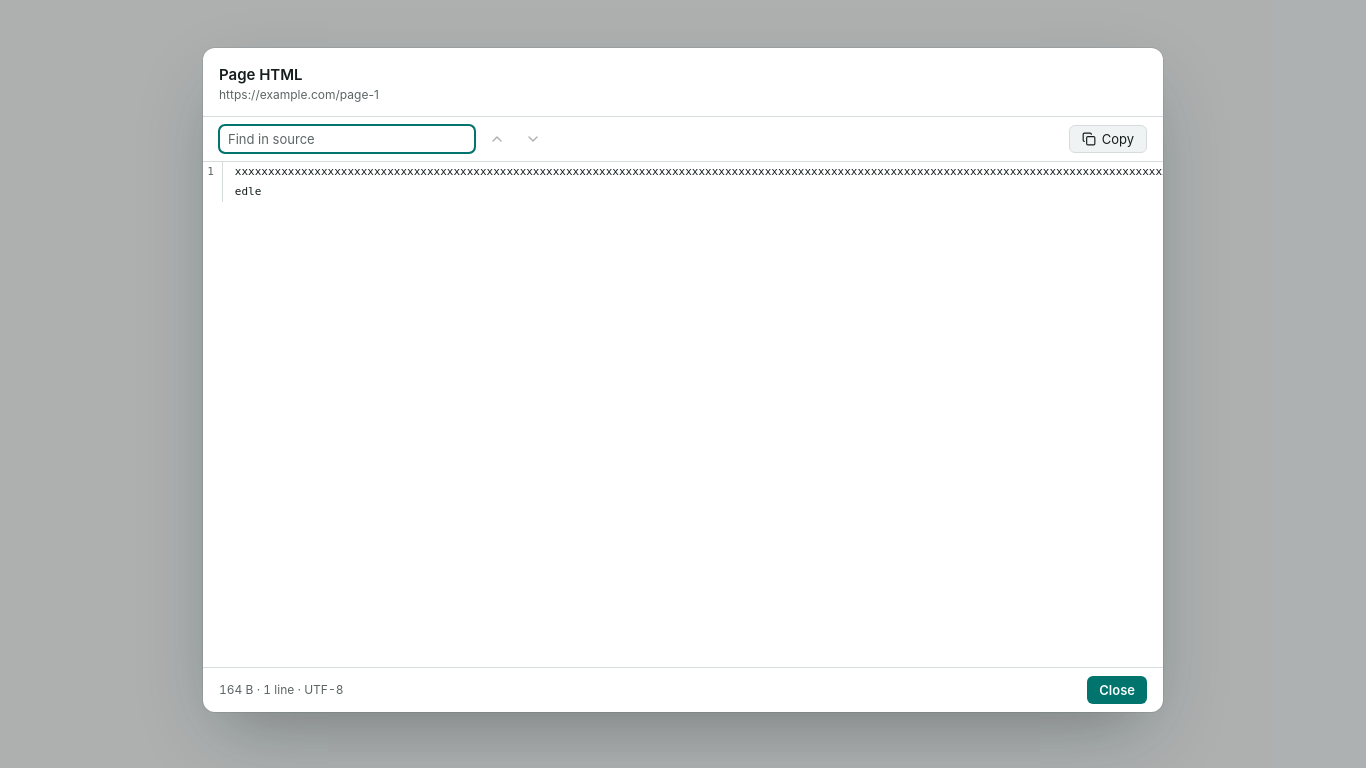
Test: a_match_across_a_wrapped_row_is_marked_on_both_rows
This screenshot has width=1366, height=768.
Type "needle" into the search field labelled "Find in source". click: (347, 139)
box: [219,125,475,153]
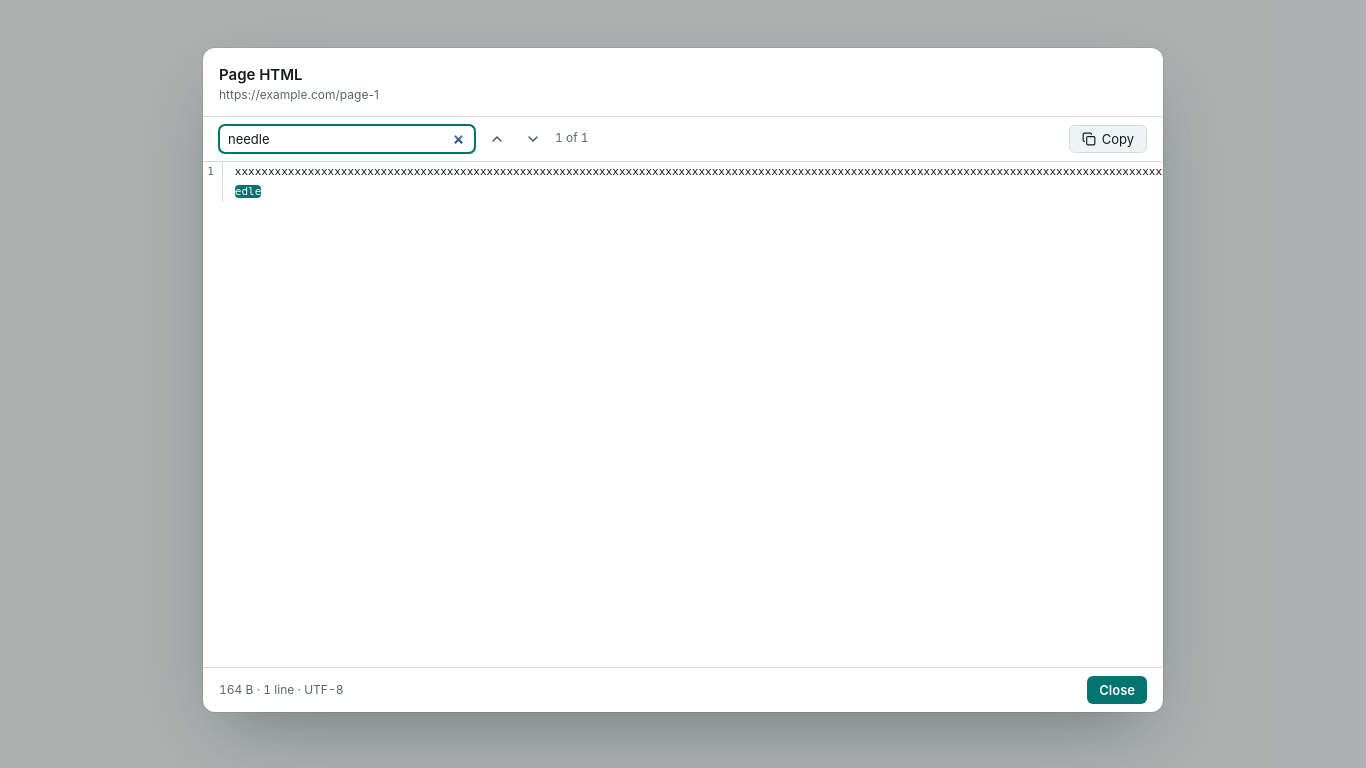
Expected: the message with test id "match-count" reads "1 of 1", [555,130,589,145]
